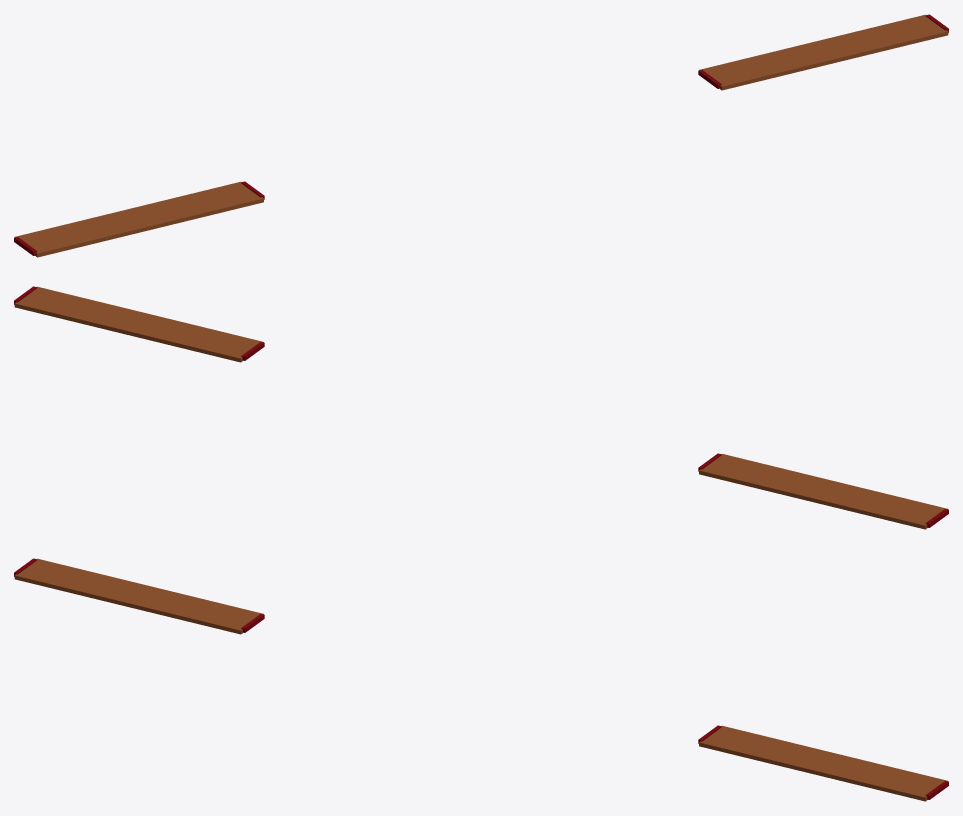
Rendered from PuentesColisiones.glb.
3 views of the same model, one above another, from view 1: azimuth 30°, elevation 25°; view 2: azimuth 150°, elevation 25°; view 3: azimuth 330°, elevation 25° (orthographic).
Visible parts, largest first — view 1: Cube.032, Cube.034; view 2: Cube.032, Cube.034; view 3: Cube.032, Cube.034.
Part boxes in pixels (<box>): Cube.032: <box>14,14,948,257</box>; Cube.034: <box>14,14,948,255</box>; Cube.032: <box>14,286,948,529</box>; Cube.034: <box>14,286,948,527</box>; Cube.032: <box>14,558,948,801</box>; Cube.034: <box>14,558,948,799</box>.
Size of what is drawn, in the model's own units: 65.52 by 0.3334 by 2.84.
